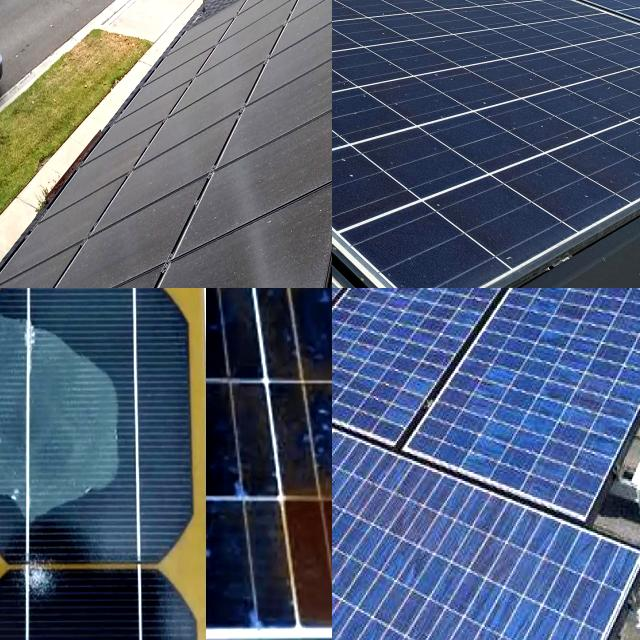crack: (447, 288, 640, 514), (332, 464, 533, 640), (332, 376, 379, 562), (366, 288, 446, 372), (332, 288, 363, 332)
dust: (332, 7, 568, 154), (332, 119, 403, 277), (251, 66, 332, 180), (178, 231, 298, 288)
shadow: (0, 288, 141, 527), (272, 417, 332, 640), (0, 553, 62, 625)
